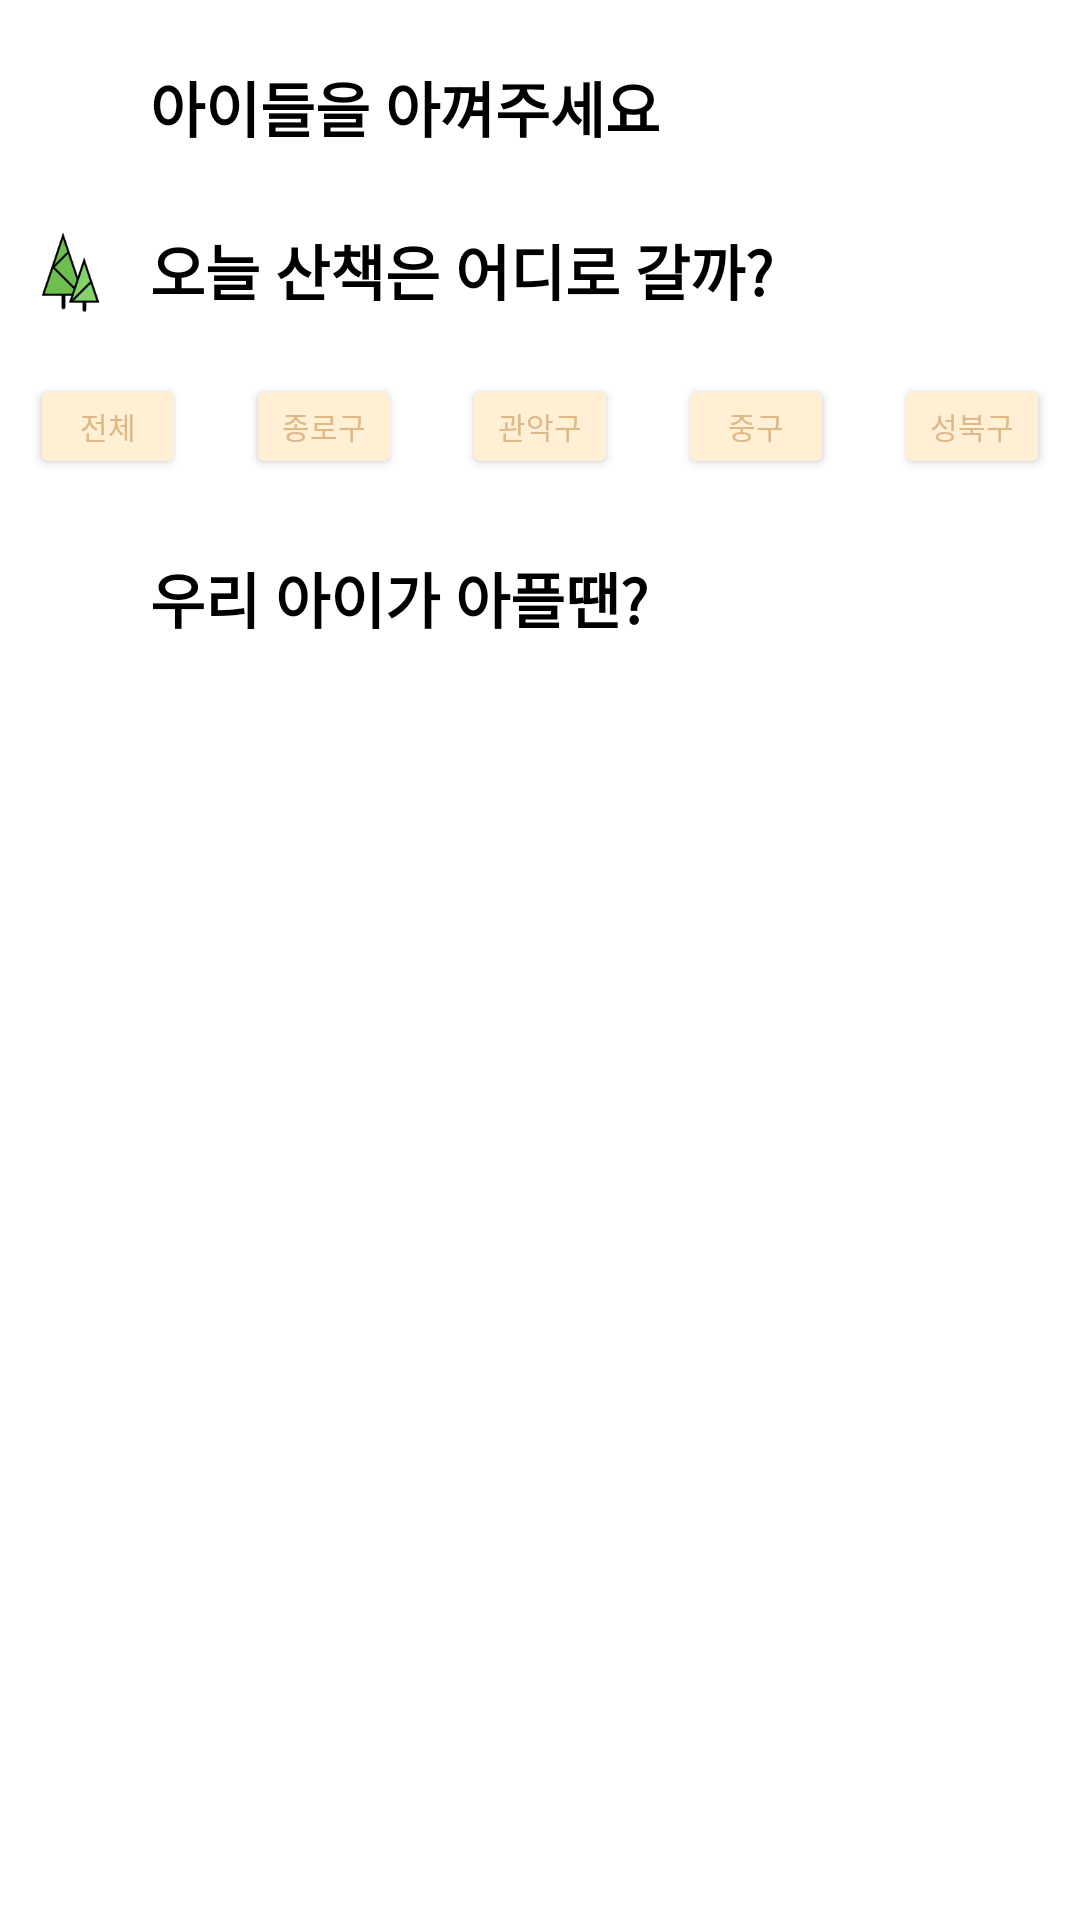

Named icons in this screenshot (1080×1920) and their centers, point (x, y):
tree: point (71, 272)
